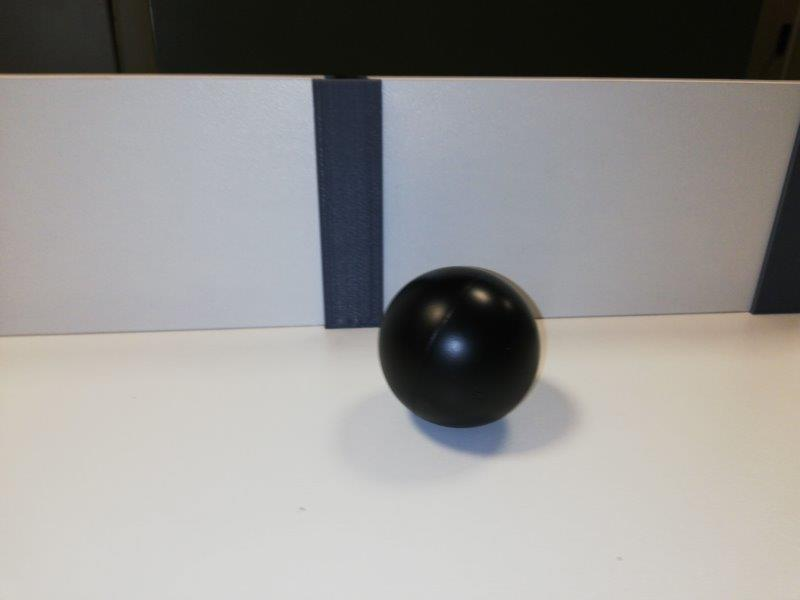nera: (377, 264, 540, 427)
